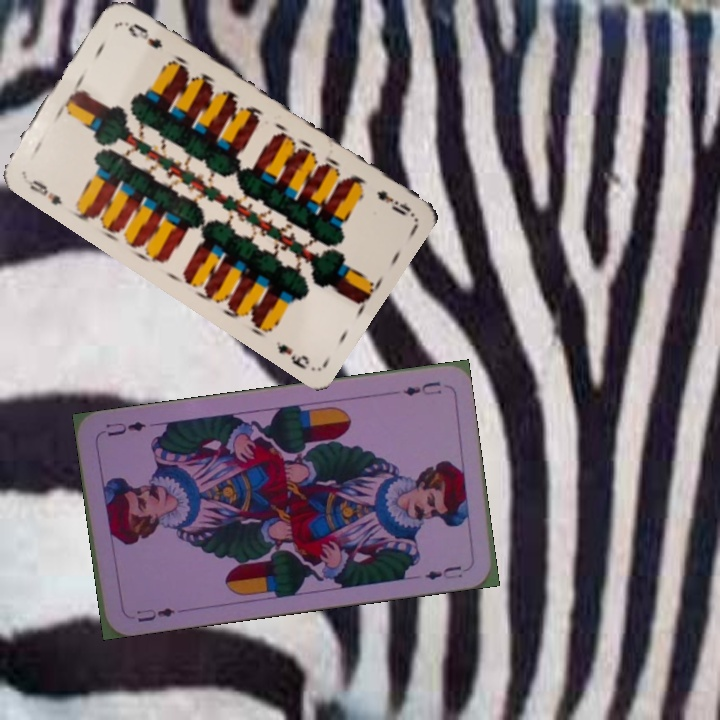E9: (19, 171, 65, 208), (372, 186, 415, 219)
EU: (132, 603, 178, 625), (399, 377, 444, 399)
